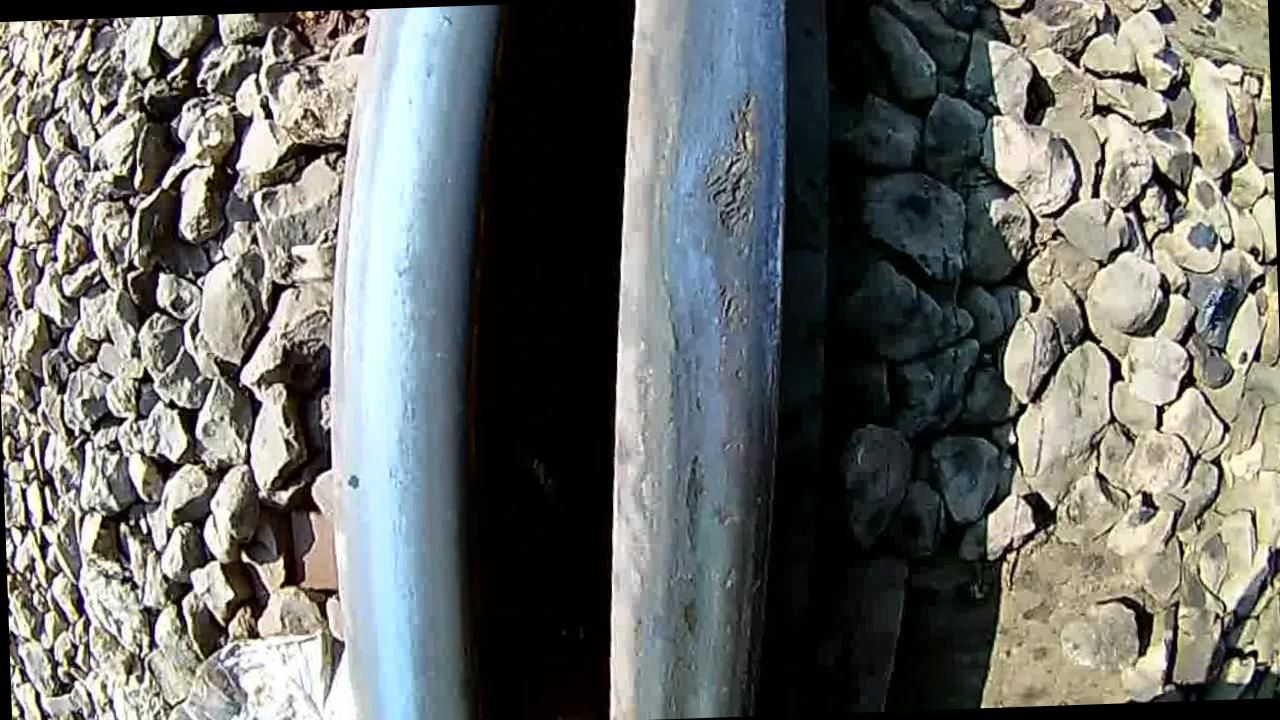crack: (612, 0, 814, 720)
